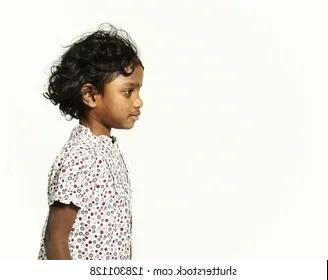Human: (28, 29, 164, 277)
